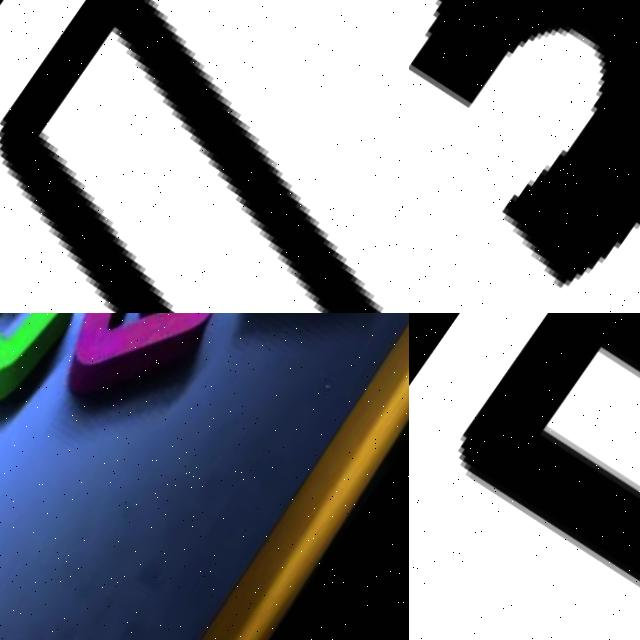3: (409, 0, 640, 313)
9: (433, 313, 640, 640)
C: (0, 313, 109, 439)
G: (38, 313, 268, 442)
